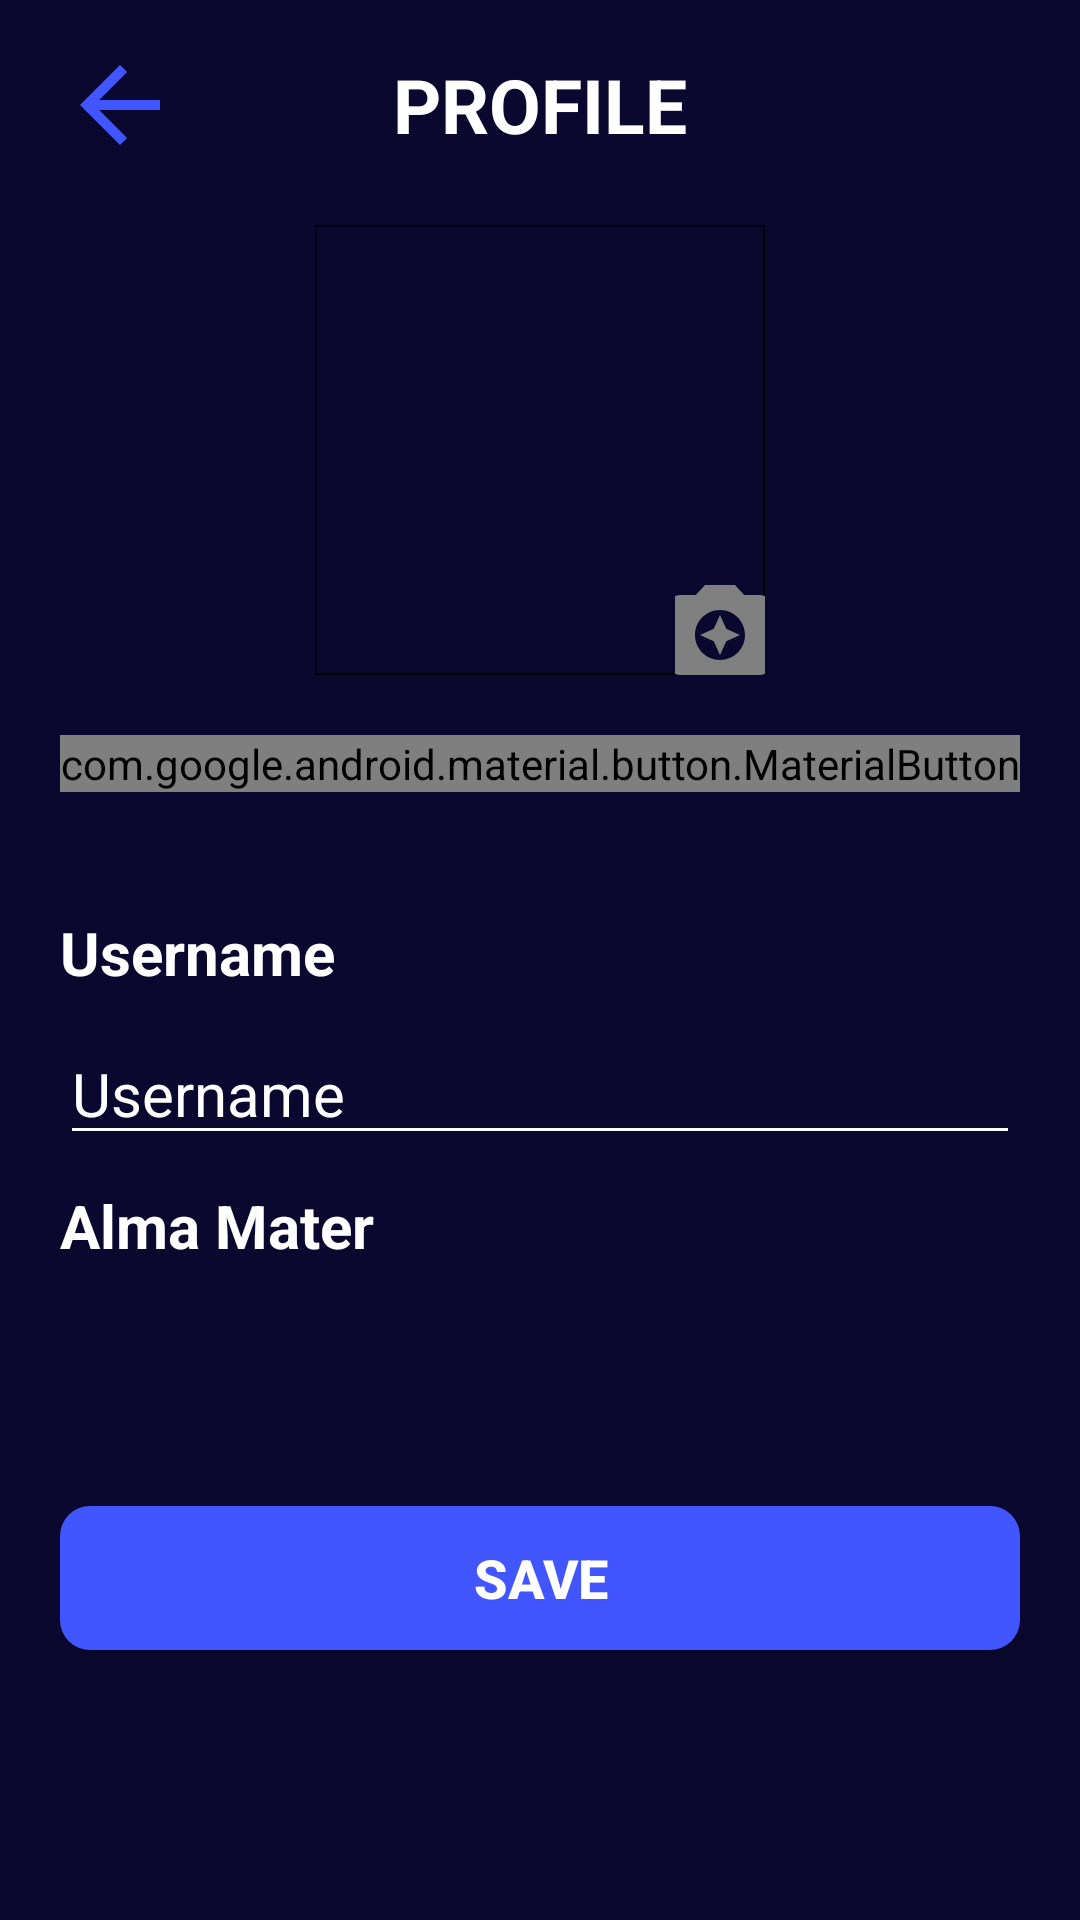

Icons on this 1080px×1920px Android screen, each with the point to tap as (x=x, y=y):
arrow back: (x=120, y=105)
camera enhance: (x=720, y=630)
